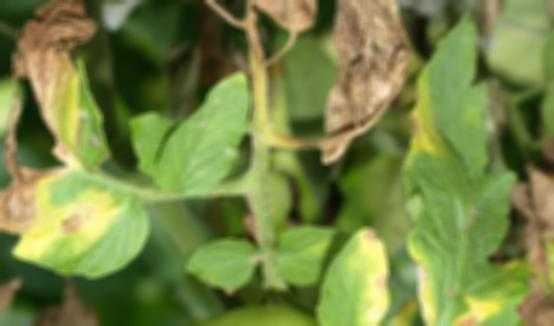Tomato Early blight leaf: (408, 2, 539, 326), (0, 167, 151, 293), (311, 216, 401, 326)
Tomato leaf: (145, 71, 258, 192)
